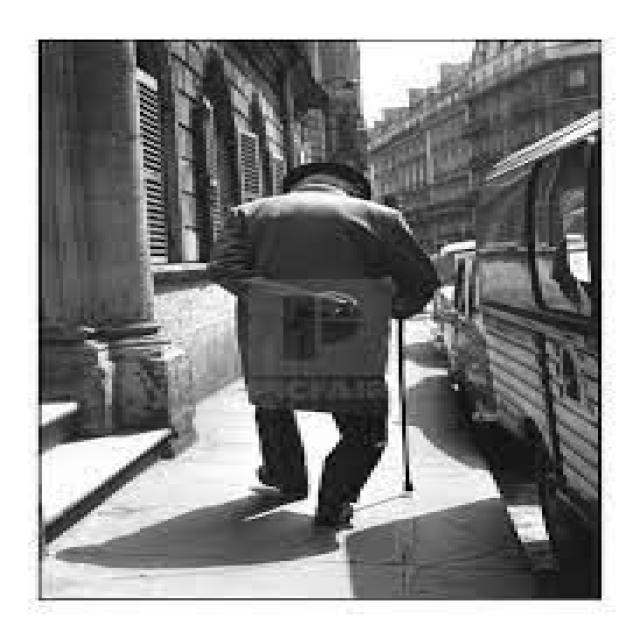idoso em pe: (218, 150, 448, 540)
